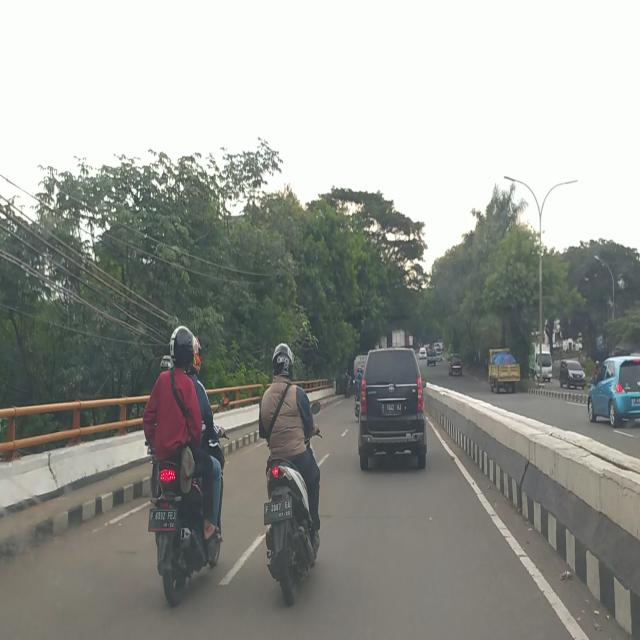Sewer Cover: (321, 511, 491, 520)
